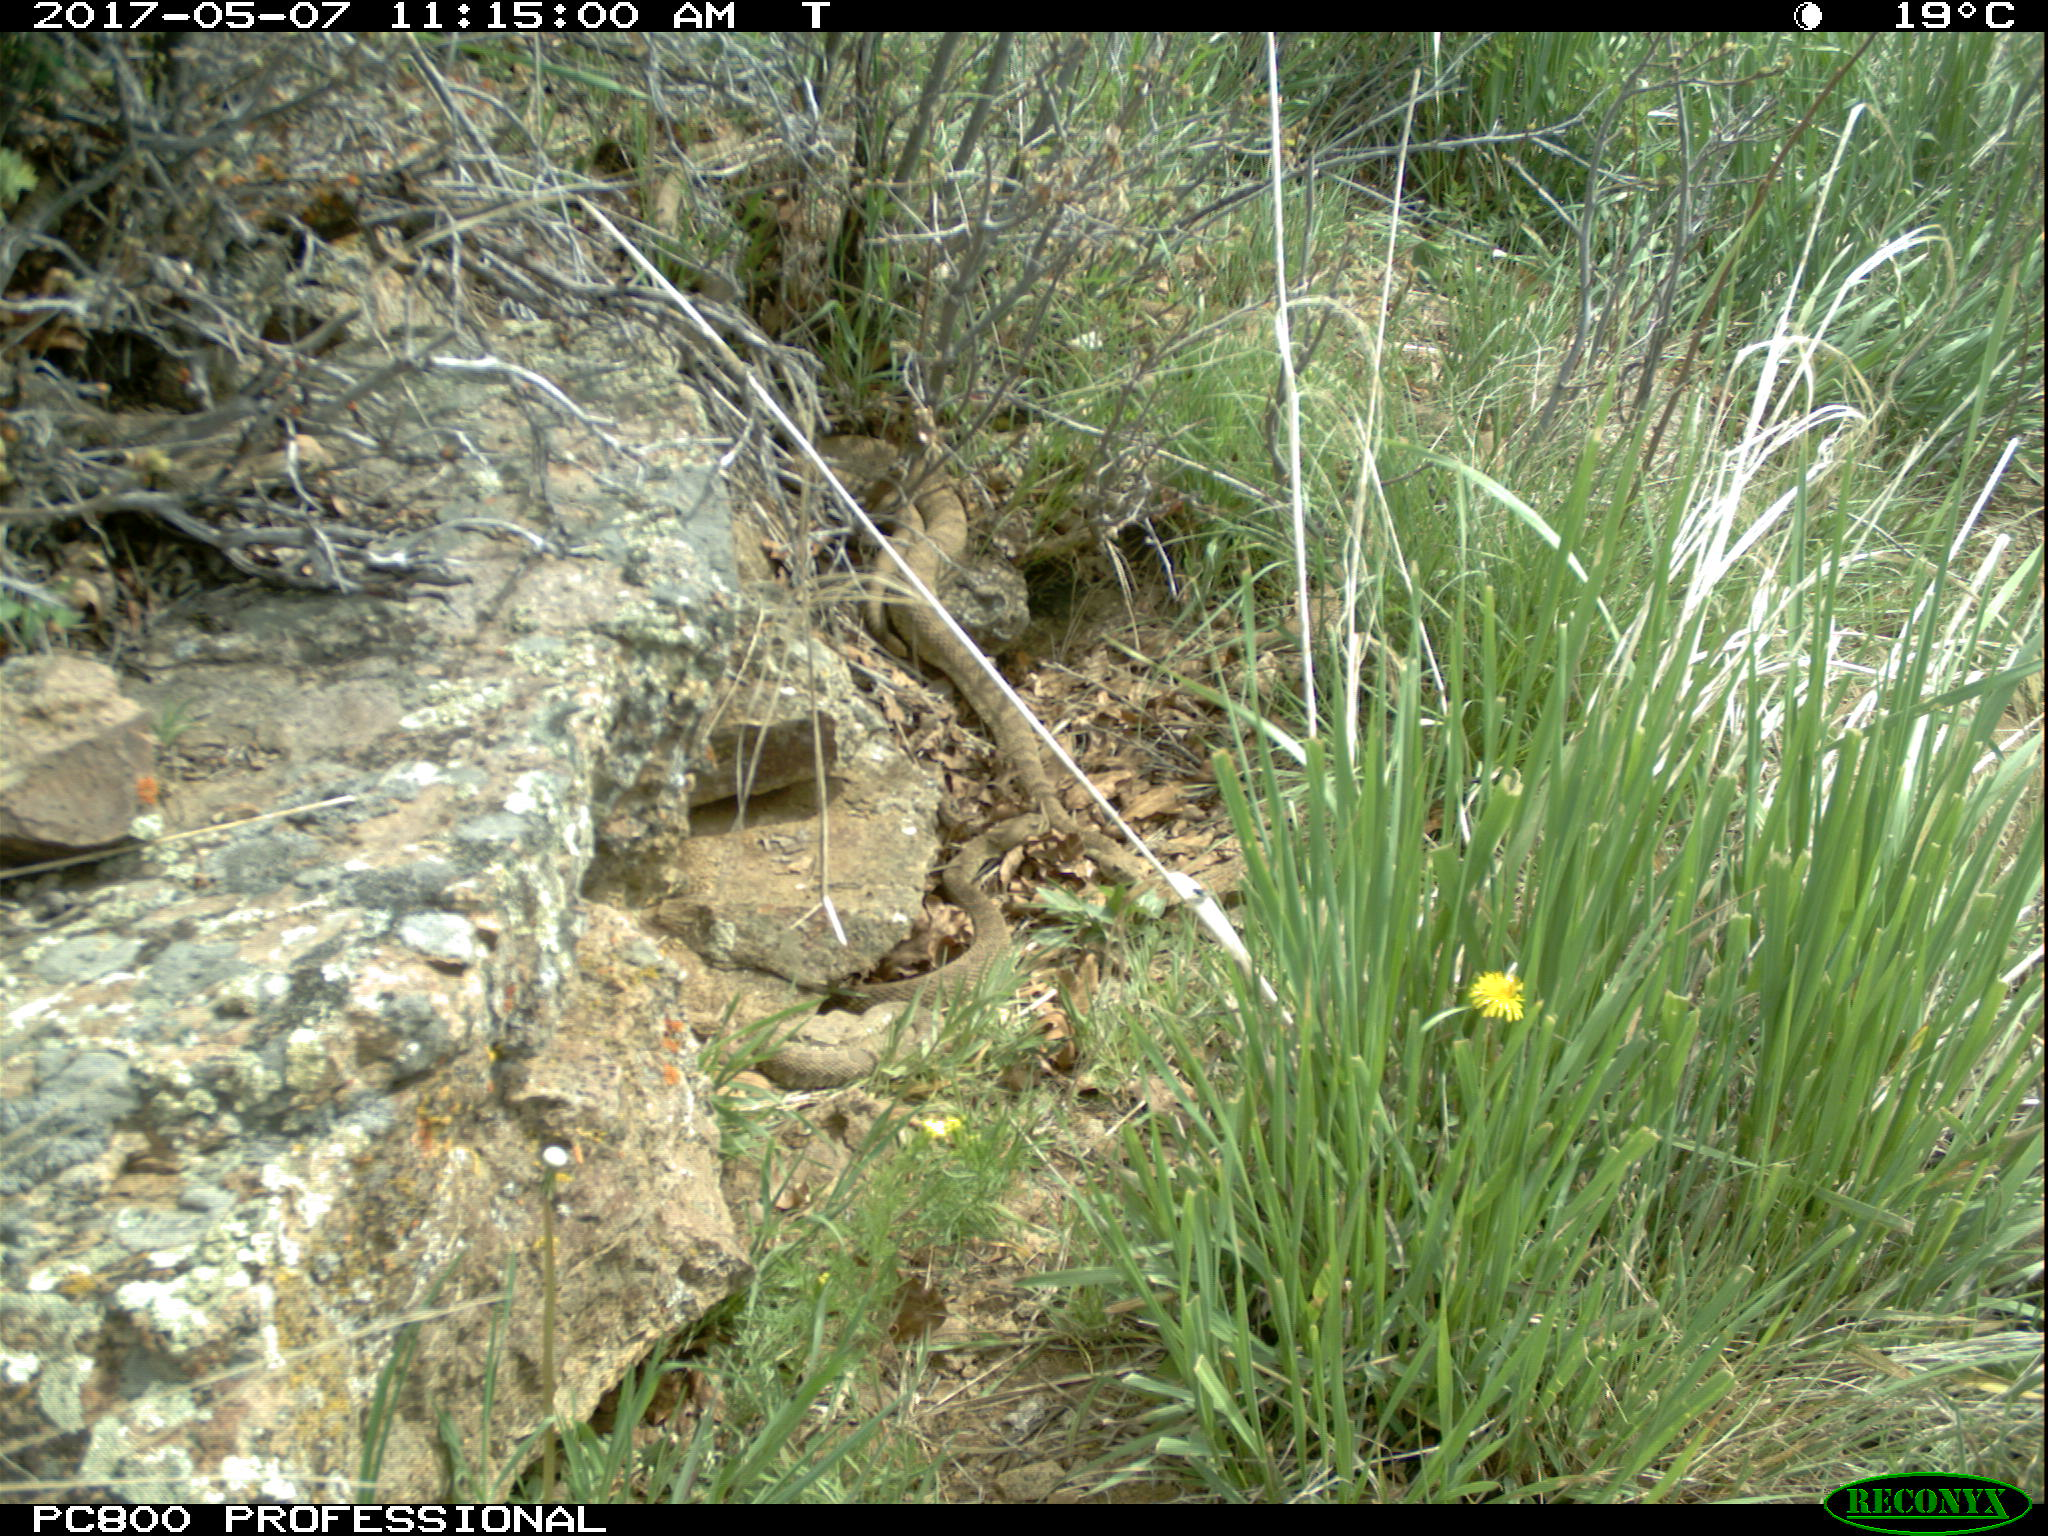snake: (884, 592, 1068, 821), (727, 949, 1005, 1075), (805, 424, 977, 607), (939, 807, 1056, 933)
